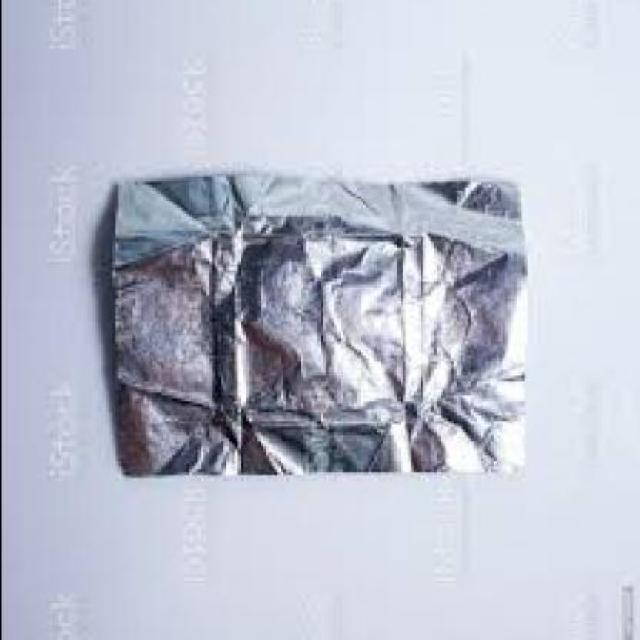METAL: (108, 179, 529, 481)
